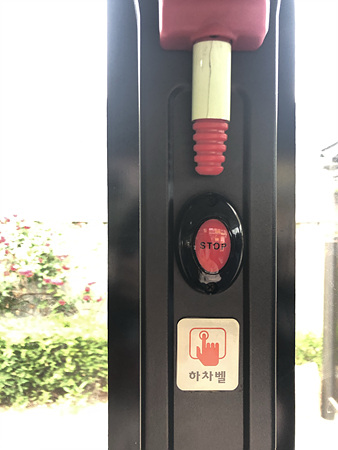bell: (177, 193, 243, 294)
